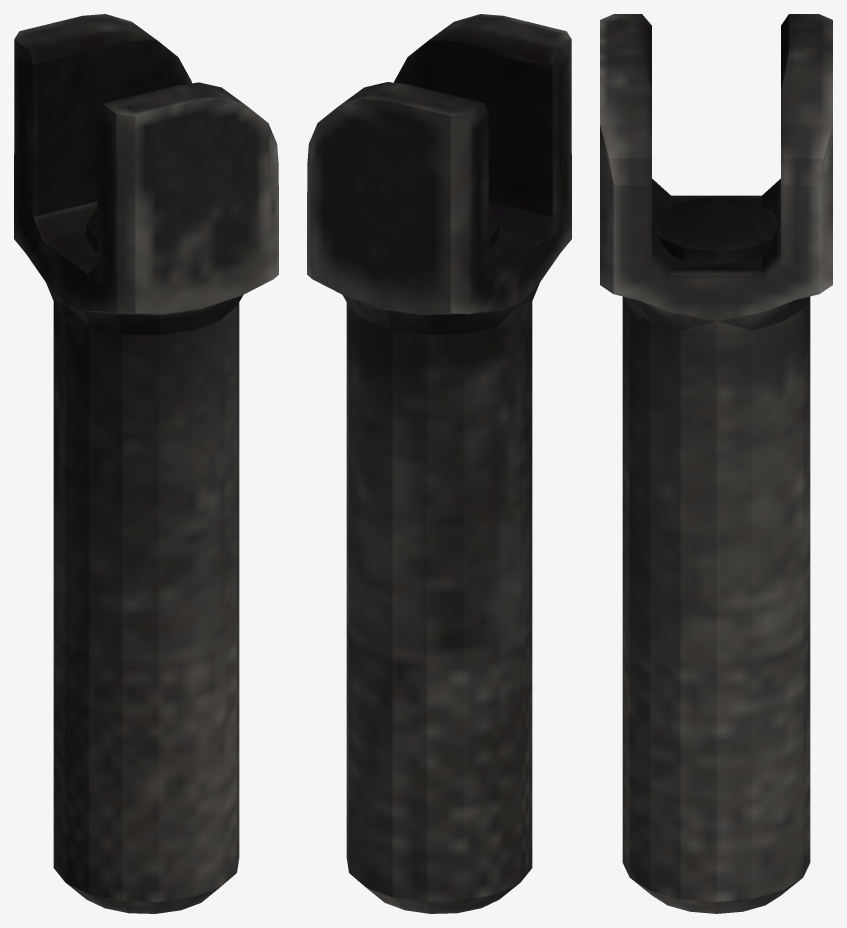
3 views of the same model, side by side, from view 1: azimuth 30°, elevation 25°; view 2: azimuth 150°, elevation 25°; view 3: azimuth 270°, elevation 25° (orthographic).
Parts seen in each view (by area): view 1: TW_65268d8ecb944ff1e90ea385_PZ_Import; view 2: TW_65268d8ecb944ff1e90ea385_PZ_Import; view 3: TW_65268d8ecb944ff1e90ea385_PZ_Import.
Boxes of the visible parts, x1=… form: TW_65268d8ecb944ff1e90ea385_PZ_Import: x1=14, y1=14, x2=278, y2=913; TW_65268d8ecb944ff1e90ea385_PZ_Import: x1=307, y1=14, x2=571, y2=913; TW_65268d8ecb944ff1e90ea385_PZ_Import: x1=600, y1=14, x2=832, y2=913.
Bounding box in the file's own units: 0.00586 × 0.00725 × 0.0286.
1 material, 1 textured.
